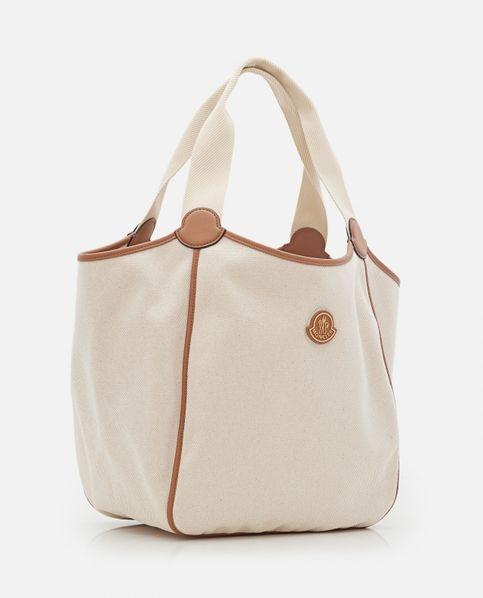MONCLER: (305, 310, 337, 345)
